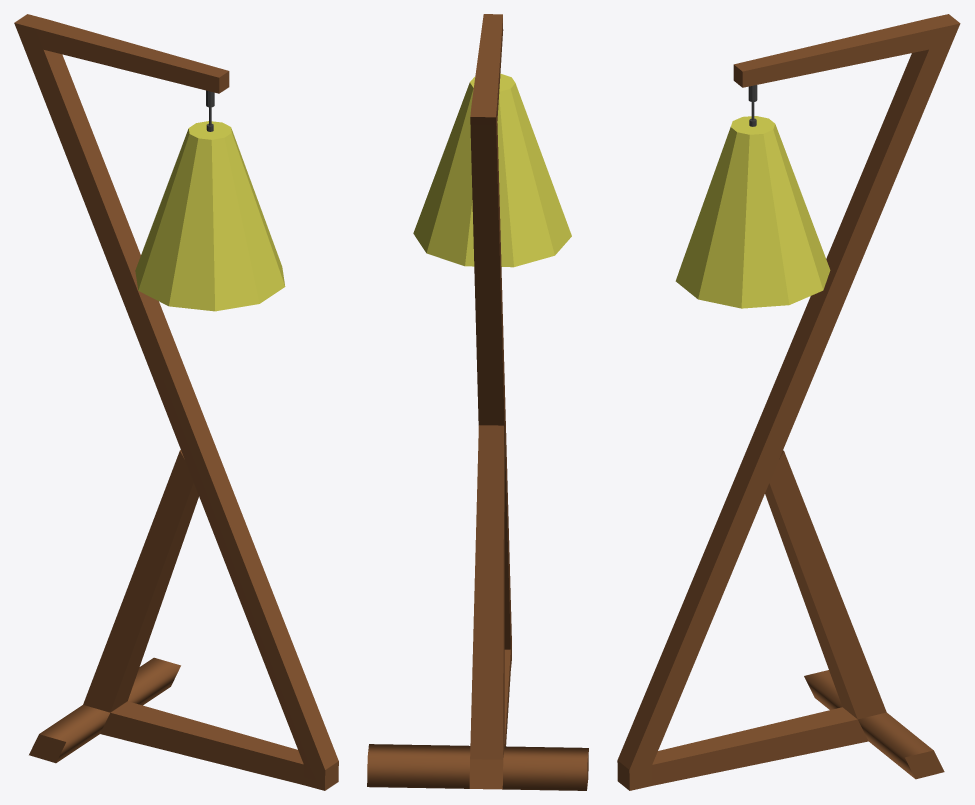
Rendered from floor lamp 1.fbx.
The picture shows the model from 3 angles, left to right: view 1: azimuth 30°, elevation 25°; view 2: azimuth 150°, elevation 25°; view 3: azimuth 270°, elevation 25°; orthographic projection. The views are drawn at different scales.
Parts seen in each view (by area): view 1: floor lamp 1; view 2: floor lamp 1; view 3: floor lamp 1.
Boxes of the visible parts, x1,y1,x2,y2 form: floor lamp 1: (14,14,338,790); floor lamp 1: (367,14,588,790); floor lamp 1: (617,14,960,790).
Size of the model in its own units: 1.19 by 3.81 by 1.7.
